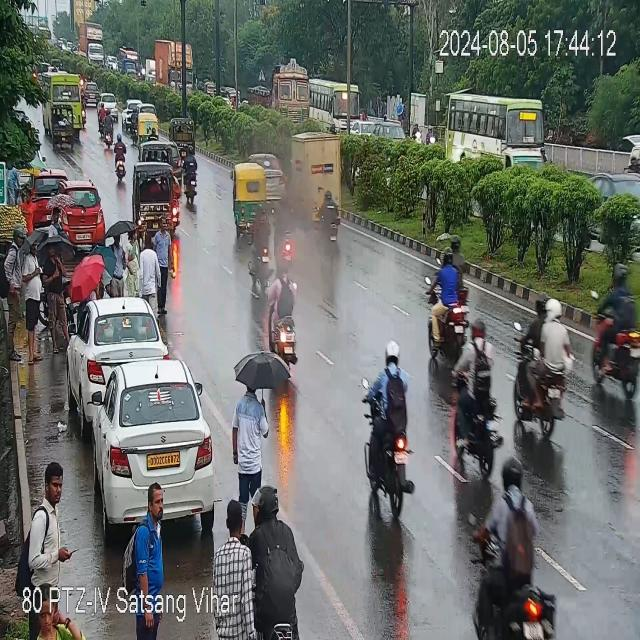2-wheelers: (469, 455, 561, 640), (357, 330, 415, 520), (247, 485, 305, 637), (511, 297, 576, 432), (578, 265, 638, 407), (448, 324, 493, 482), (260, 253, 306, 374), (424, 244, 468, 368), (179, 140, 201, 214), (109, 132, 130, 188)
auto: (134, 164, 180, 227), (234, 162, 269, 231), (169, 118, 197, 158), (51, 107, 77, 150), (137, 110, 161, 144)
bus: (445, 91, 547, 171), (310, 80, 360, 130), (40, 74, 86, 109), (76, 20, 106, 68), (118, 47, 142, 76)
car: (79, 343, 215, 527), (62, 298, 170, 376), (49, 183, 107, 249), (22, 169, 71, 231), (138, 140, 182, 173), (249, 152, 284, 177), (97, 91, 121, 122)
pedestrian: (22, 464, 79, 638), (210, 497, 258, 639), (123, 484, 167, 638), (231, 384, 271, 528), (6, 232, 47, 362), (138, 236, 162, 316)
truck: (291, 131, 346, 229), (247, 60, 311, 120), (156, 38, 194, 93)
